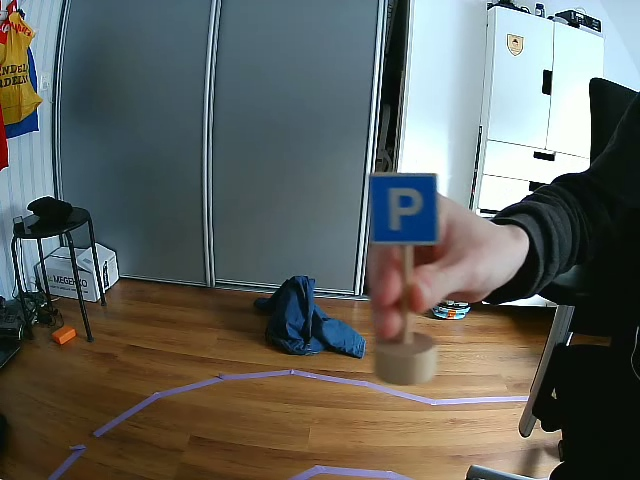parkeerbord: (369, 171, 437, 244)
